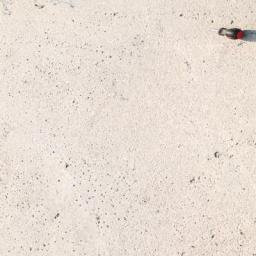FOD: (204, 22, 253, 46)
